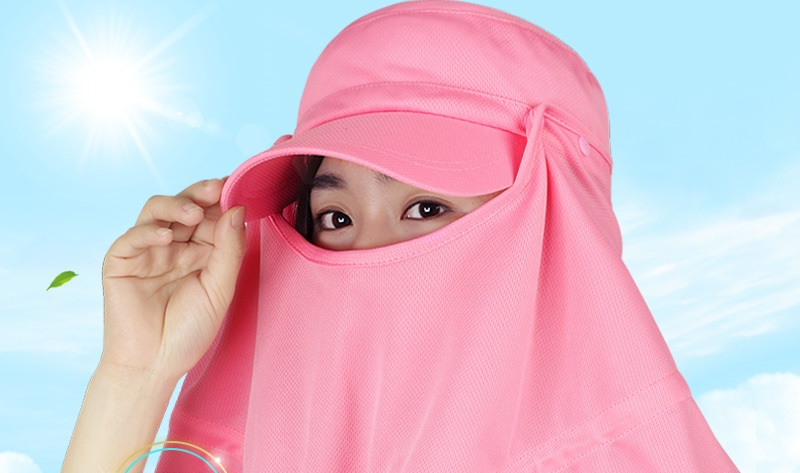face_mask: (310, 103, 528, 392)
